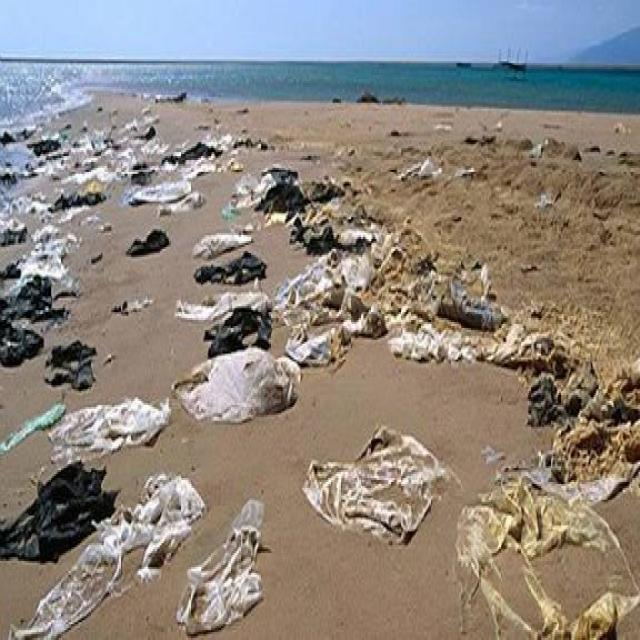bag: (6, 392, 255, 640), (469, 428, 629, 640), (311, 407, 457, 610), (0, 127, 100, 395), (258, 221, 370, 390), (167, 333, 300, 441)
